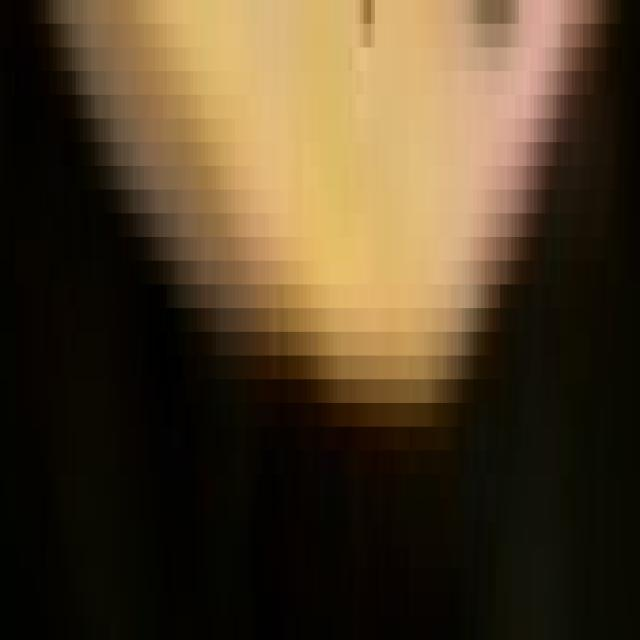fish: (0, 0, 636, 617)
